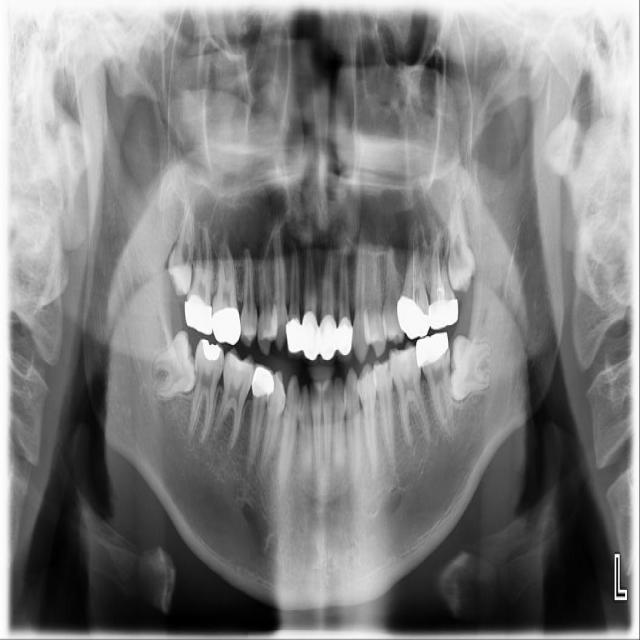3M ESPE Implant: (164, 198, 200, 298)
52: (284, 310, 355, 365), (413, 331, 453, 382), (221, 345, 256, 396), (396, 288, 431, 339), (387, 339, 424, 387), (210, 293, 242, 346), (193, 338, 226, 384), (426, 285, 459, 330), (184, 285, 212, 335), (251, 362, 273, 401)
73: (402, 217, 436, 294), (429, 215, 452, 293), (599, 525, 603, 533)
BioHorizons Implant: (428, 216, 459, 330)
BioLife Implant: (447, 190, 478, 293)
Biomet 3i Implant: (448, 334, 492, 402)
Blue Sky Bio Implant: (414, 331, 457, 442)
Caries: (184, 216, 213, 335)
Implant: (185, 338, 227, 446)
Keystone Dental Implant: (152, 330, 199, 399)
